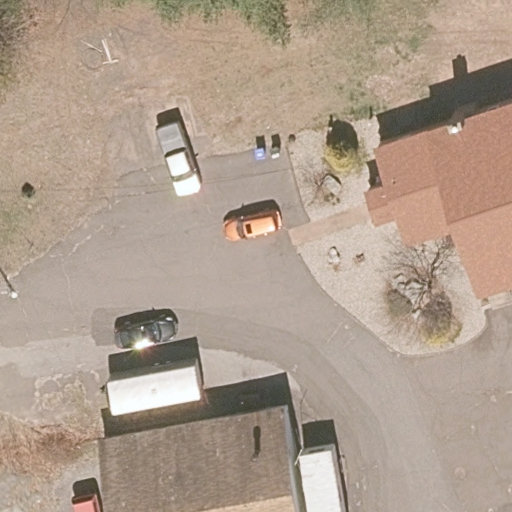DT: (1, 268, 18, 300)
